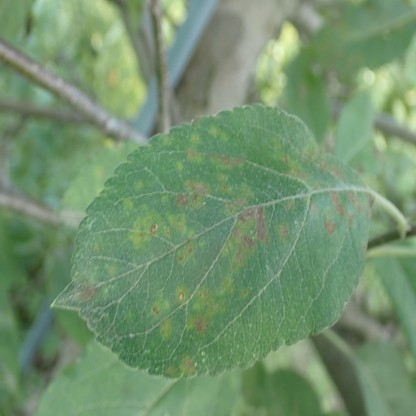powdery_mildew: (81, 301, 118, 344), (57, 287, 78, 310)
scab: (221, 198, 268, 269), (186, 287, 226, 338), (127, 203, 170, 246), (273, 154, 314, 180), (175, 181, 209, 208), (303, 139, 325, 170), (178, 230, 198, 262), (208, 151, 245, 168), (167, 212, 186, 236), (151, 293, 169, 316), (216, 276, 234, 298), (216, 173, 234, 194), (179, 354, 196, 376), (345, 189, 362, 211), (330, 190, 344, 216), (79, 279, 94, 301), (276, 222, 290, 243), (322, 214, 336, 235), (185, 146, 202, 163), (159, 317, 172, 339), (208, 127, 229, 140), (175, 287, 190, 304), (329, 164, 346, 179), (100, 282, 115, 295), (345, 210, 355, 228), (241, 182, 254, 195), (105, 261, 116, 276), (165, 365, 178, 377), (238, 287, 250, 300), (189, 131, 200, 144), (121, 198, 131, 210), (175, 159, 185, 171), (273, 138, 281, 153), (309, 202, 316, 218), (160, 136, 171, 145), (286, 198, 294, 210), (133, 181, 143, 190), (161, 193, 169, 203), (92, 241, 99, 252), (128, 310, 132, 319)
